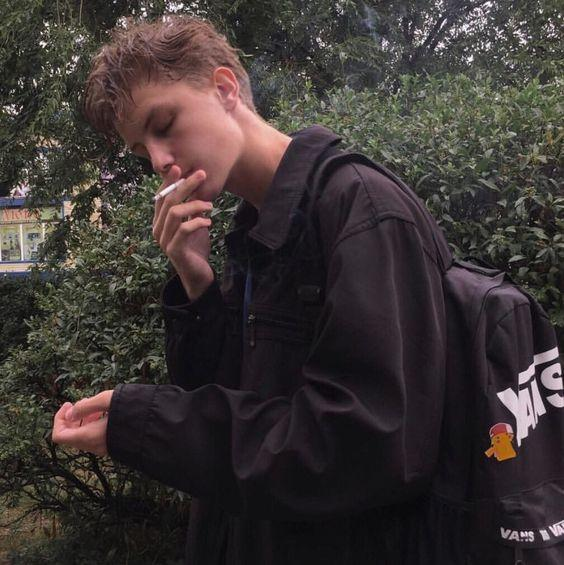cigarette: (152, 173, 190, 201)
